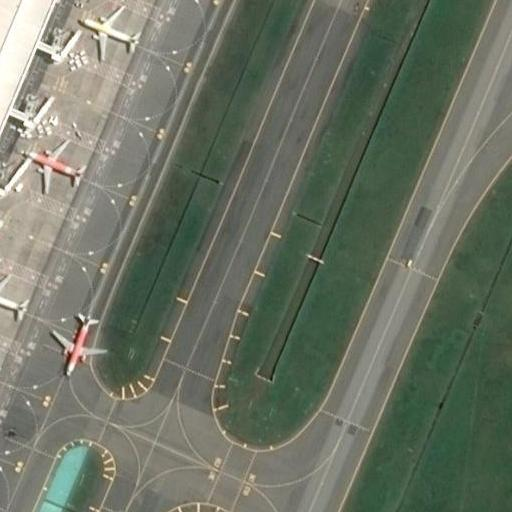Aircraft: (47, 310, 112, 379), (78, 3, 135, 62), (22, 137, 81, 193), (0, 272, 26, 328)
